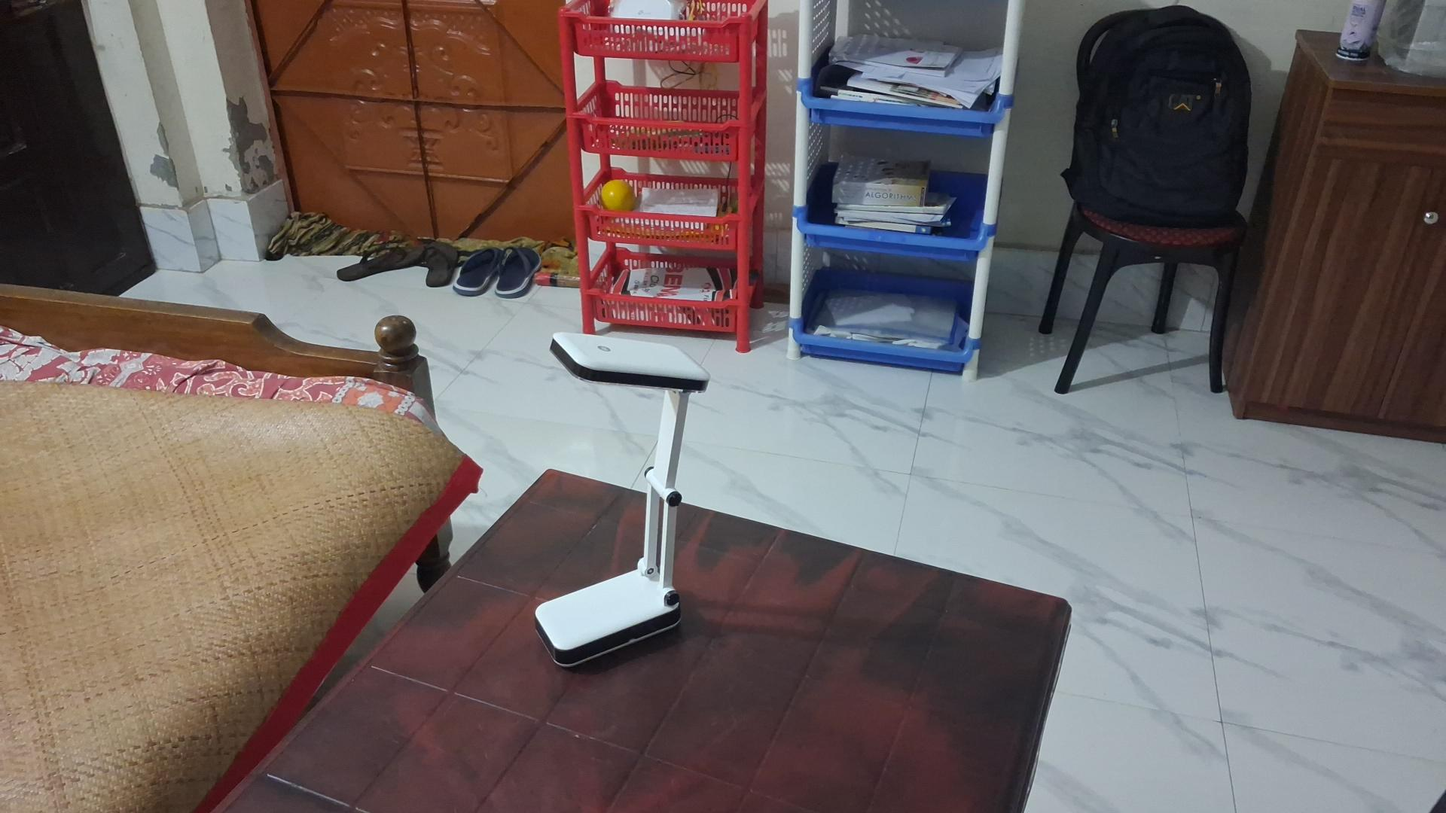Bag: (1077, 7, 1249, 219)
Chair: (1040, 174, 1247, 395)
Footwear: (337, 242, 455, 285), (454, 247, 541, 296)
Rack: (785, 5, 1020, 384), (551, 0, 775, 355)
Table: (207, 468, 1068, 813)
Table Lamp: (528, 328, 708, 659)
